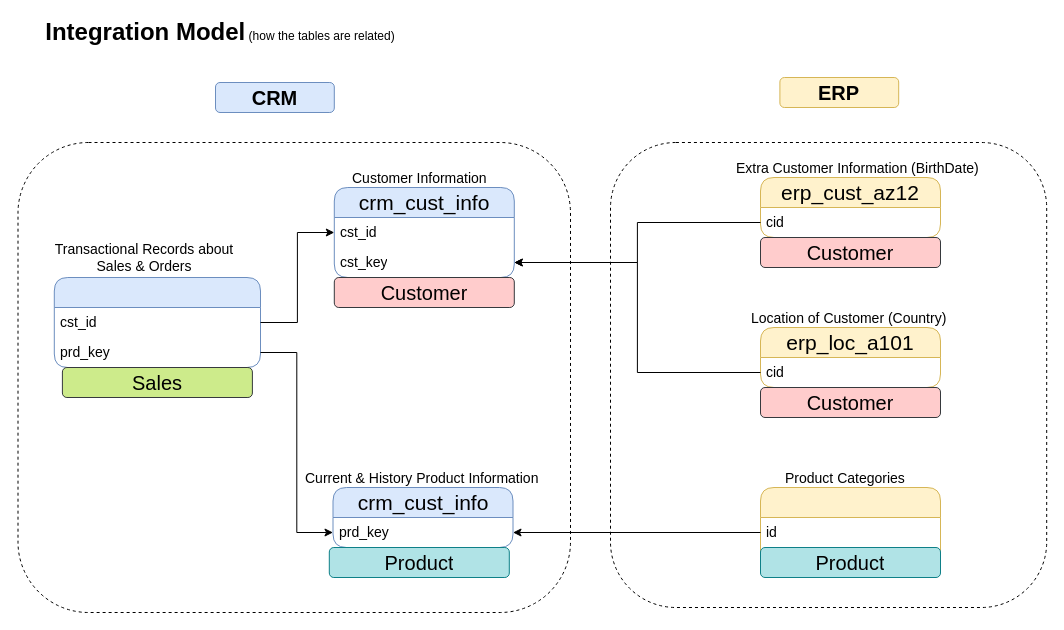
Some shapes in this 1064 by 630 pixel diagram are drawn without their labels. Each missing label, with the box of its shape:
crm_sales_details: (53, 276, 260, 368)
erp_px_cat_g1v2: (760, 486, 940, 578)
